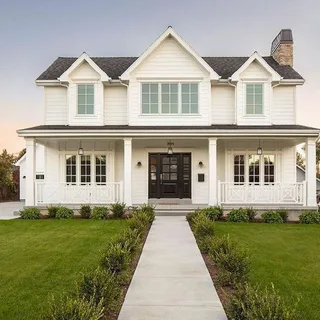private_hause: (38, 48, 311, 212)
